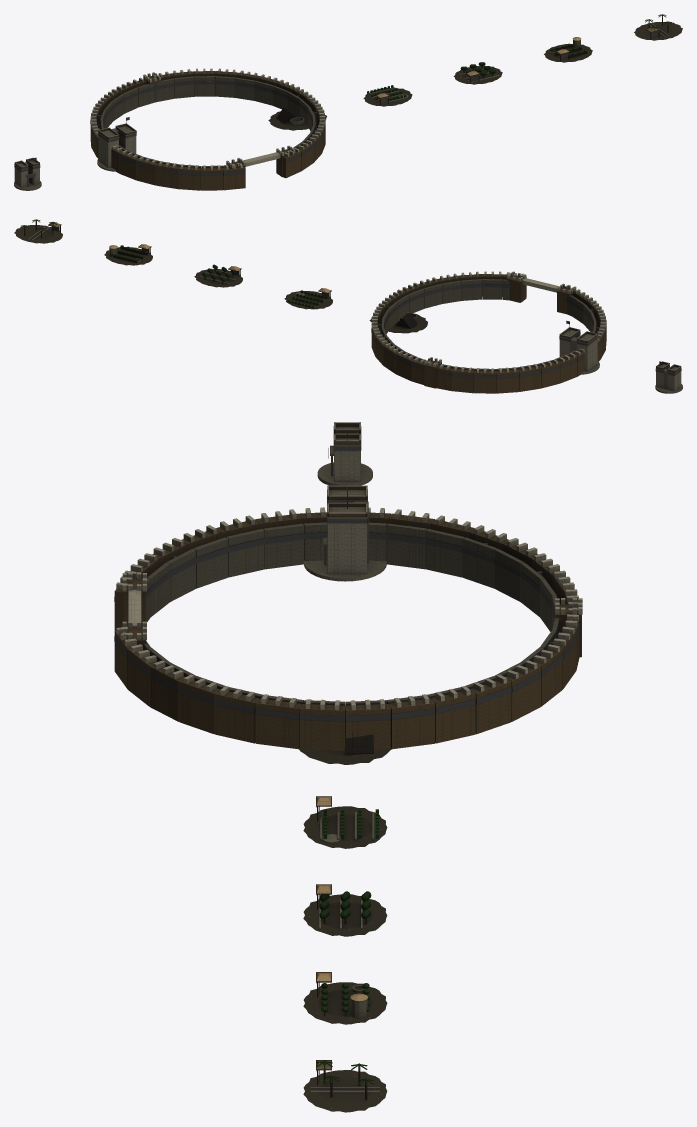
File: shared-bronze-israelite.glb
3 renders of one model, top to bottom at view 1: azimuth 30°, elevation 25°; view 2: azimuth 150°, elevation 25°; view 3: azimuth 270°, elevation 25°, orthographic. The views are drawn at different scales.
Parts seen in each view (by area): view 1: LOD0.002, LOD0.001, LOD0, LOD0.005, LOD0.006, LOD0.007, LOD0.004, LOD0.003; view 2: LOD0.002, LOD0.001, LOD0.005, LOD0.006, LOD0.007, LOD0.004, LOD0, LOD0.003; view 3: LOD0.002, LOD0.001, LOD0.007, LOD0.005, LOD0.006, LOD0.004, LOD0, LOD0.003.
Boxes of the visible parts, left/top/right/bottom form: LOD0.002: left=90, top=68, right=325, bottom=190; LOD0.001: left=97, top=117, right=136, bottom=171; LOD0: left=14, top=157, right=41, bottom=190; LOD0.005: left=453, top=62, right=502, bottom=84; LOD0.006: left=544, top=37, right=592, bottom=62; LOD0.007: left=634, top=14, right=682, bottom=40; LOD0.004: left=363, top=85, right=412, bottom=106; LOD0.003: left=268, top=107, right=326, bottom=130; LOD0.002: left=371, top=271, right=606, bottom=393; LOD0.001: left=559, top=320, right=599, bottom=374; LOD0.005: left=194, top=264, right=242, bottom=287; LOD0.006: left=104, top=244, right=152, bottom=265; LOD0.007: left=14, top=219, right=62, bottom=243; LOD0.004: left=284, top=288, right=332, bottom=309; LOD0: left=655, top=361, right=682, bottom=393; LOD0.003: left=369, top=312, right=427, bottom=333; LOD0.002: left=114, top=507, right=582, bottom=751; LOD0.001: left=304, top=485, right=386, bottom=581; LOD0.007: left=303, top=1060, right=387, bottom=1112; LOD0.005: left=303, top=884, right=387, bottom=936; LOD0.006: left=303, top=972, right=387, bottom=1024; LOD0.004: left=303, top=796, right=387, bottom=848; LOD0: left=317, top=422, right=372, bottom=485; LOD0.003: left=299, top=729, right=391, bottom=764.
Size of what is drawn, in the model's own units: 22.13 by 1.36 by 6.76.
Materials: 3 (3 with a texture image).
